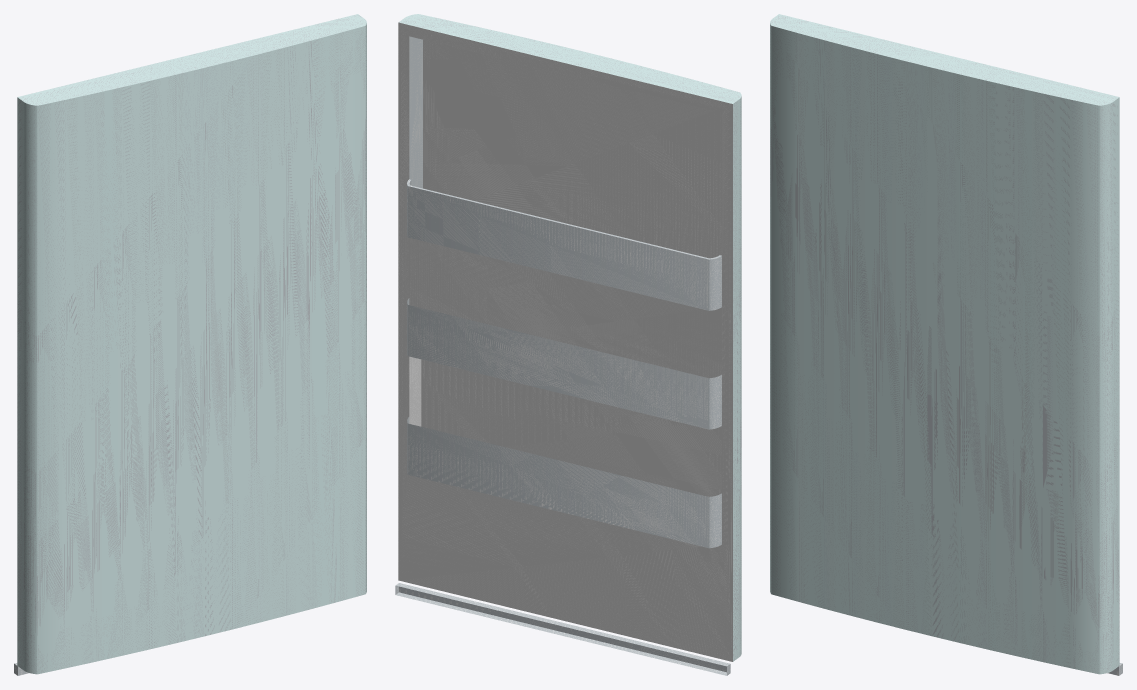
Rendered from board.dae.
3 views of the same model, side by side, from view 1: azimuth 30°, elevation 25°; view 2: azimuth 150°, elevation 25°; view 3: azimuth 330°, elevation 25° (orthographic).
Visible parts, largest first — view 1: instance_0.038; view 2: instance_0.037, instance_0.036, instance_0.028, instance_0.035, instance_0.029, instance_0.031, instance_0.038, instance_2.033, instance_0.034; view 3: instance_0.038.
Part boxes in pixels (<box>): instance_0.038: <box>17,14,366,674</box>; instance_0.037: <box>398,22,732,661</box>; instance_0.036: <box>423,39,721,258</box>; instance_0.028: <box>409,356,721,496</box>; instance_0.035: <box>407,179,721,310</box>; instance_0.029: <box>408,423,721,548</box>; instance_0.031: <box>408,305,721,429</box>; instance_0.038: <box>399,14,741,661</box>; instance_2.033: <box>395,583,730,675</box>; instance_0.034: <box>409,36,422,188</box>; instance_0.038: <box>770,14,1119,674</box>.
Size of the model in its own units: 0.6431 by 0.0792 by 1.05.
